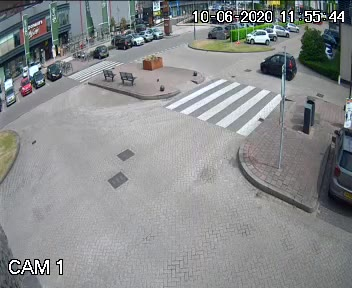car: (258, 50, 297, 81)
